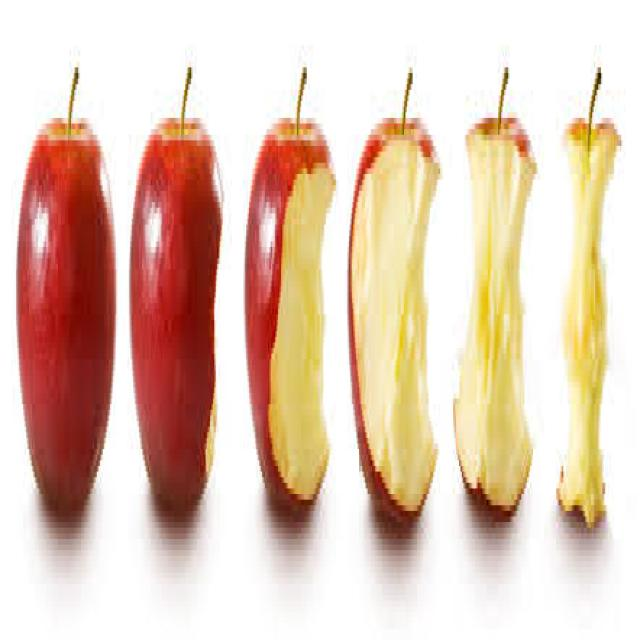Red Apple: (15, 124, 117, 518)
Used Apple: (347, 117, 442, 524), (128, 115, 222, 524), (242, 112, 337, 516), (451, 115, 537, 526), (553, 115, 622, 535)
